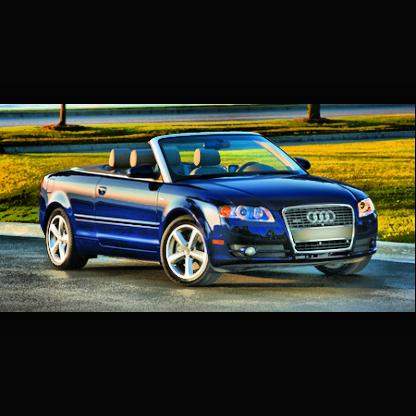Audi RS 4 Convertible 2008: (41, 132, 381, 288)
